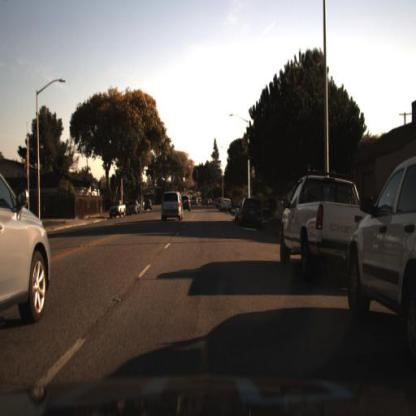car: (346, 155, 416, 362), (277, 164, 368, 275), (280, 166, 366, 272), (1, 163, 51, 322), (238, 194, 265, 228), (161, 190, 185, 222), (109, 199, 128, 221), (109, 199, 127, 220), (219, 195, 235, 215), (127, 199, 144, 217), (177, 195, 191, 216), (143, 196, 155, 215)
